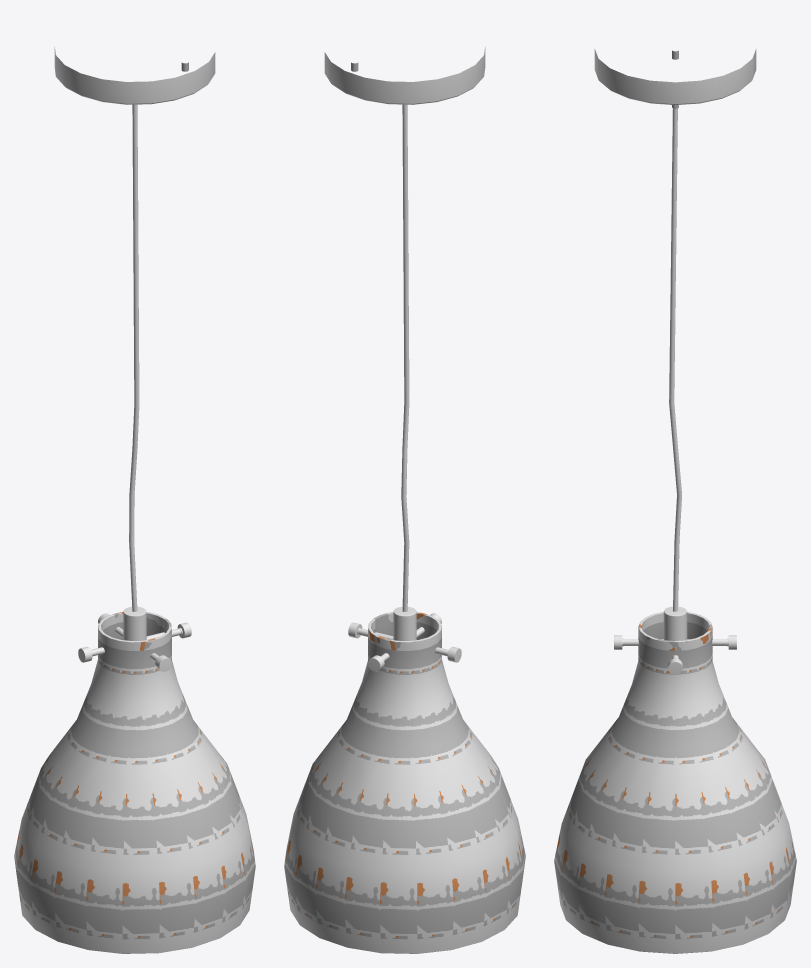
File: abo-B0725NGTKK.glb
The picture shows the model from 3 angles, left to right: view 1: azimuth 30°, elevation 25°; view 2: azimuth 150°, elevation 25°; view 3: azimuth 270°, elevation 25°; orthographic projection.
Size of the model in its own units: 0.374 by 1.46 by 0.374.
1 material, 1 textured.
